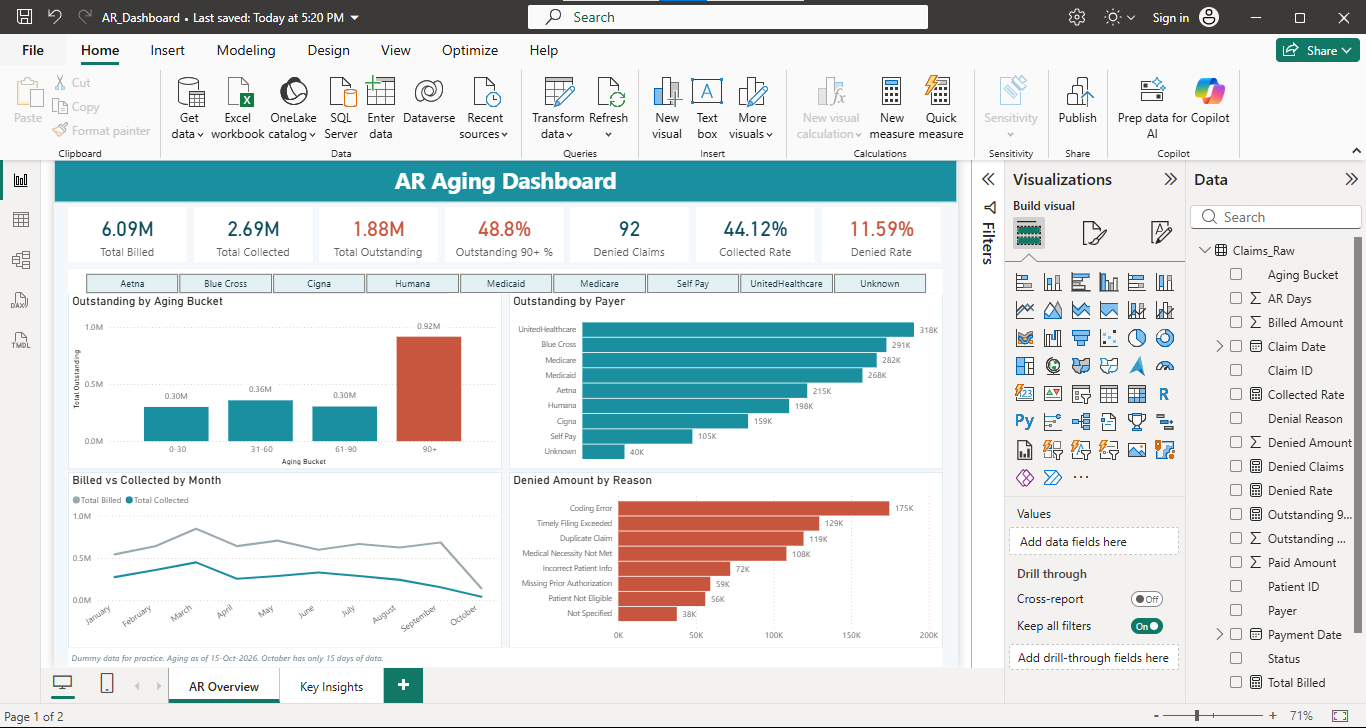

The dashboard page shown, as its layout file describes it:
{"tool":"powerbi","page":{"name":"AR Overview","canvas":[1280,720],"ordinal":0},"visuals":[{"type":"card","fields":{"Values":["Claims_Raw.Total Billed"]},"box":[20.2,66,168,78],"z":0},{"type":"card","fields":{"Values":["Claims_Raw.Total Outstanding"]},"box":[376,66,168,78],"z":1000},{"type":"card","fields":{"Values":["Claims_Raw.Total Collected"]},"box":[198,66,168,78],"z":2000},{"type":"card","fields":{"Values":["Claims_Raw.Outstanding 90+ %"]},"box":[554,66,168,78],"z":3000},{"type":"card","fields":{"Values":["Claims_Raw.Denied Claims"]},"box":[732,66,168,78],"z":4000},{"type":"card","fields":{"Values":["Claims_Raw.Denied Rate"]},"box":[1088,66,168,78],"z":5000},{"type":"card","fields":{"Values":["Claims_Raw.Collected Rate"]},"box":[910,66,168,78],"z":6000},{"type":"lineClusteredColumnComboChart","title":"Outstanding by Aging Bucket","fields":{"Category":["Claims_Raw.Aging Bucket"],"Y":["Claims_Raw.Total Outstanding"]},"box":[20,188,615,250],"z":7000},{"type":"clusteredBarChart","title":"Outstanding by Payer","fields":{"Category":["Claims_Raw.Payer"],"Y":["Claims_Raw.Total Outstanding"]},"box":[645,188,615,250],"z":8000},{"type":"clusteredBarChart","title":"Denied Amount by Reason","fields":{"Category":["Claims_Raw.Denial Reason"],"Y":["Sum(Claims_Raw.Denied Amount)"]},"box":[645,442,615,250],"z":9000},{"type":"lineChart","title":"Billed vs Collected by Month","fields":{"Category":["Claims_Raw.Claim Date.Variation.Date Hierarchy.Month"],"Y":["Claims_Raw.Total Billed","Claims_Raw.Total Collected"]},"box":[20,442,615,250],"z":10000},{"type":"textbox","box":[0,0,1280.2,60],"z":11000},{"type":"textbox","box":[19.8,691.7,1240.2,26.9],"z":12000},{"type":"slicer","fields":{"Values":["Claims_Raw.Payer"]},"box":[20,155,1240,35],"z":13000}]}

Visuals, with their boxes on the page's 1280x720 design canvas (x1, y1, x2, y2). These are canvas units, not pixel positions in the 1366x728 screenshot, which may show the page scaled, cropped or inside an application window:
card - Claims_Raw.Total Billed: (20,66,188,144)
card - Claims_Raw.Total Outstanding: (376,66,544,144)
card - Claims_Raw.Total Collected: (198,66,366,144)
card - Claims_Raw.Outstanding 90+ %: (554,66,722,144)
card - Claims_Raw.Denied Claims: (732,66,900,144)
card - Claims_Raw.Denied Rate: (1088,66,1256,144)
card - Claims_Raw.Collected Rate: (910,66,1078,144)
"Outstanding by Aging Bucket" lineClusteredColumnComboChart: (20,188,635,438)
"Outstanding by Payer" clusteredBarChart: (645,188,1260,438)
"Denied Amount by Reason" clusteredBarChart: (645,442,1260,692)
"Billed vs Collected by Month" lineChart: (20,442,635,692)
textbox: (0,0,1280,60)
textbox: (20,692,1260,719)
slicer - Claims_Raw.Payer: (20,155,1260,190)
